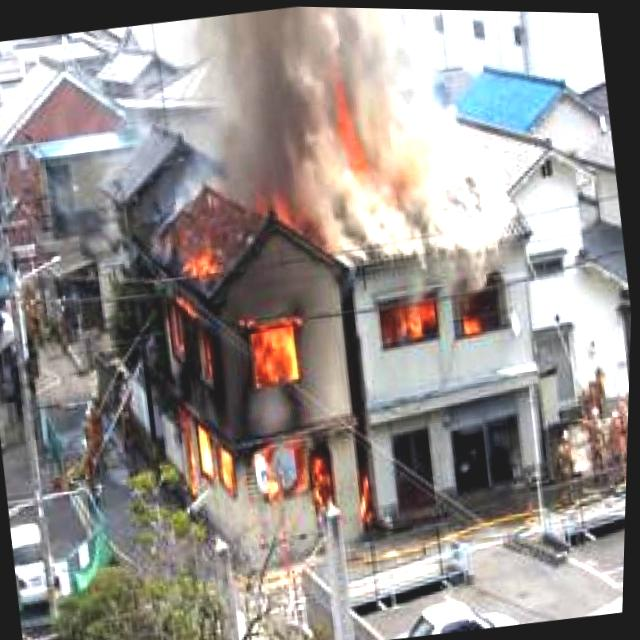helmet: (121, 187, 350, 532), (327, 98, 434, 203), (375, 279, 514, 347)
no_helmet: (186, 3, 506, 260)
